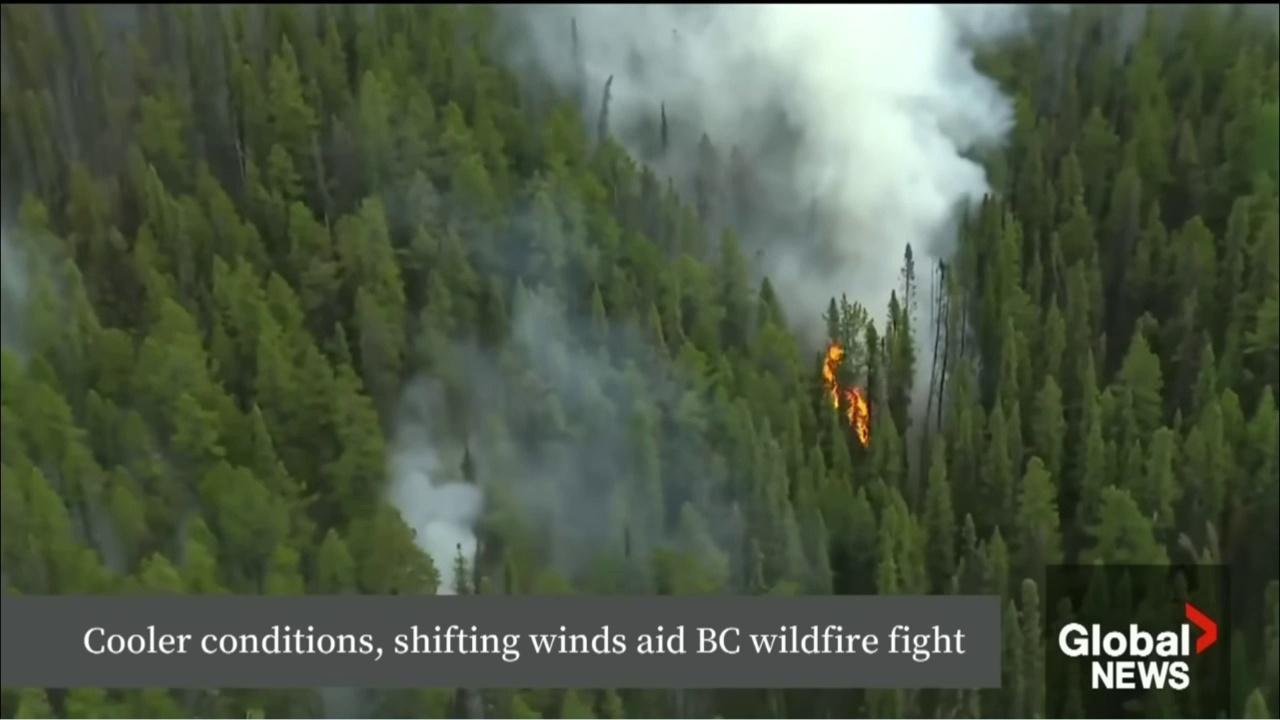fire: (812, 338, 887, 455)
smoke: (373, 4, 1080, 599), (2, 226, 195, 596)
